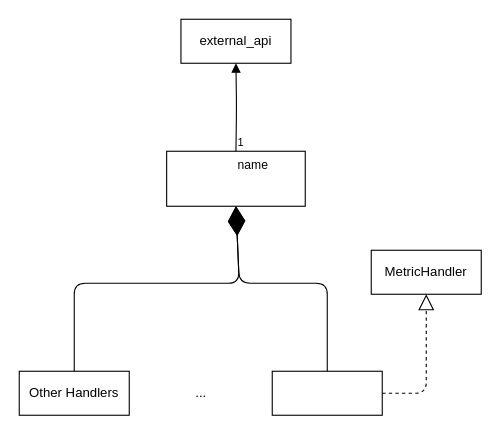
Image size: 501x435. Some labels were removed from this diagram. The shapes that lost their labels are listed below. From the top down, each one's centre as x and y in pixels, then its label:
At point 235,178: "MetricsCollectorAPI".
At point 326,392: "PlatformHandler".
